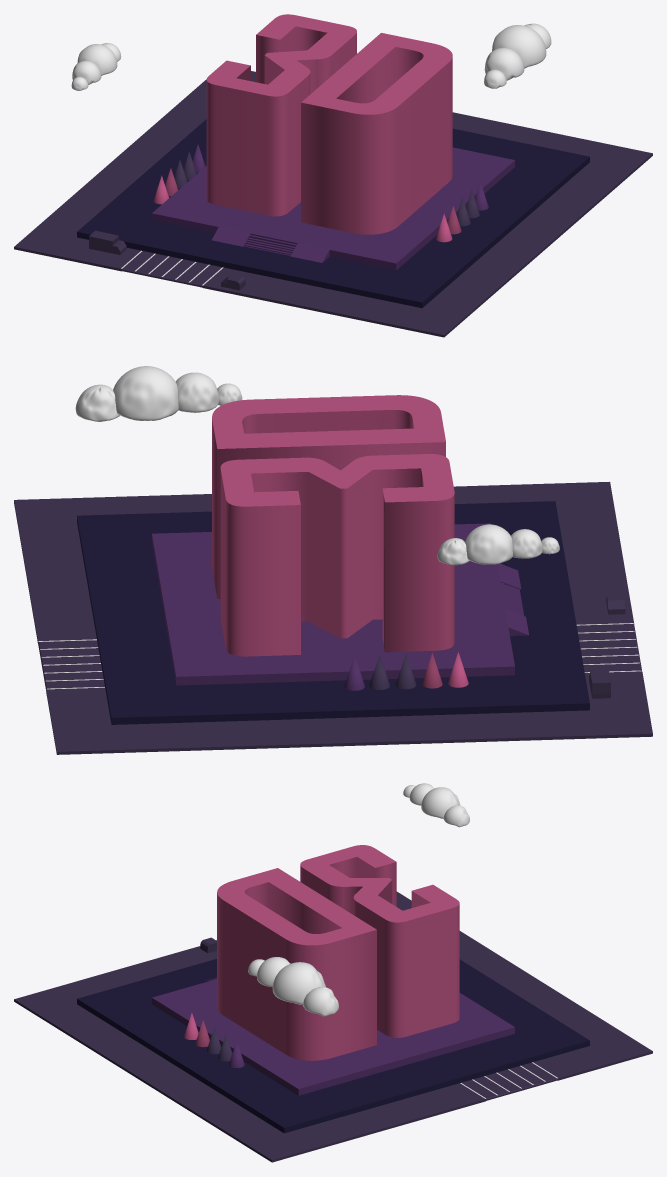
Rendered from Finale.glb.
3 renders of one model, top to bottom at view 1: azimuth 30°, elevation 25°; view 2: azimuth 150°, elevation 25°; view 3: azimuth 270°, elevation 25°, orthographic. The views are drawn at different scales.
Visible parts, largest first — view 1: Text, Plane.001, Plane, Plane.002, Sphere, Sphere.001, Plane.003; view 2: Text, Plane.001, Plane, Plane.002, Sphere, Sphere.001, Plane.003; view 3: Text, Plane.001, Plane, Plane.002, Sphere, Sphere.001.
Part boxes in pixels (box(x1,y1,x2,y2)): Text: box(206, 14, 452, 234); Plane.001: box(14, 71, 652, 337); Plane: box(77, 119, 589, 308); Plane.002: box(152, 147, 514, 270); Sphere: box(484, 23, 551, 88); Sphere.001: box(71, 43, 121, 90); Plane.003: box(89, 230, 126, 254); Text: box(212, 395, 454, 656); Plane.001: box(14, 481, 652, 754); Plane: box(77, 501, 589, 724); Plane.002: box(152, 523, 528, 685); Sphere: box(75, 366, 242, 421); Sphere.001: box(437, 524, 559, 565); Plane.003: box(589, 669, 610, 698); Text: box(217, 845, 459, 1060); Plane.001: box(14, 891, 652, 1162); Plane: box(77, 959, 589, 1133); Plane.002: box(152, 977, 514, 1095); Sphere: box(248, 957, 338, 1016); Sphere.001: box(403, 783, 469, 827).
Size of the model in its own units: 4.34 by 1.15 by 4.34.
